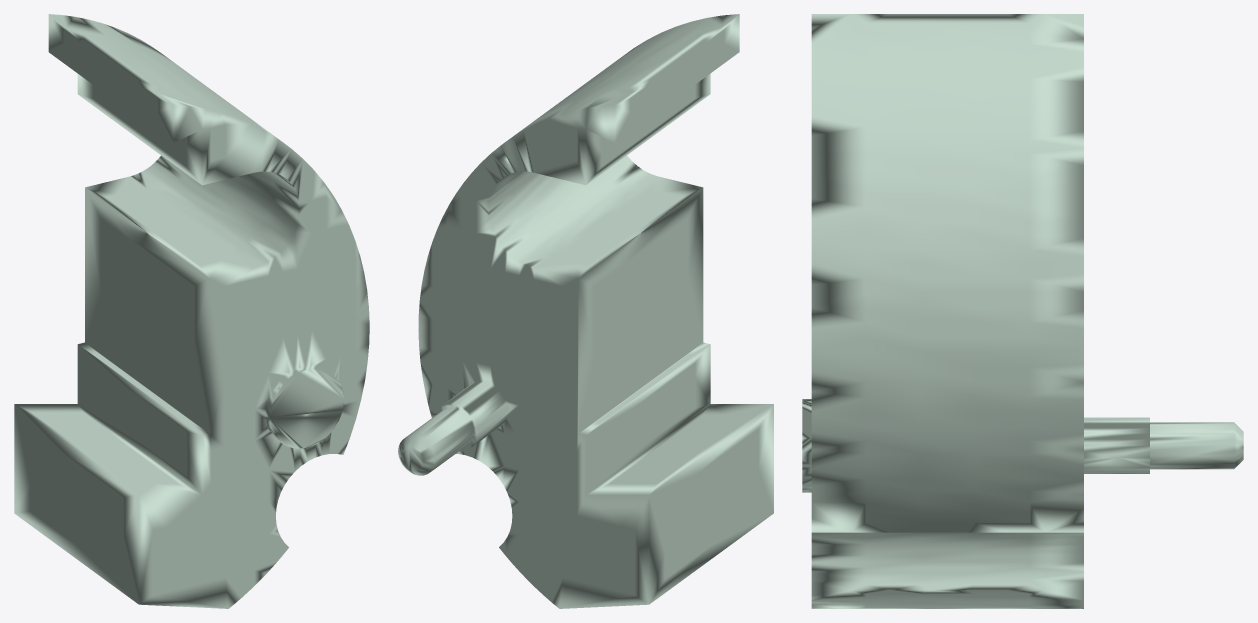
Rendered from bennettinsert_left_deco.obj.
3 views of the same model, side by side, from view 1: azimuth 30°, elevation 25°; view 2: azimuth 150°, elevation 25°; view 3: azimuth 270°, elevation 25° (orthographic). The views are drawn at different scales.
Bounding box in the file's own units: 15.5 × 33.2 × 23.5.
